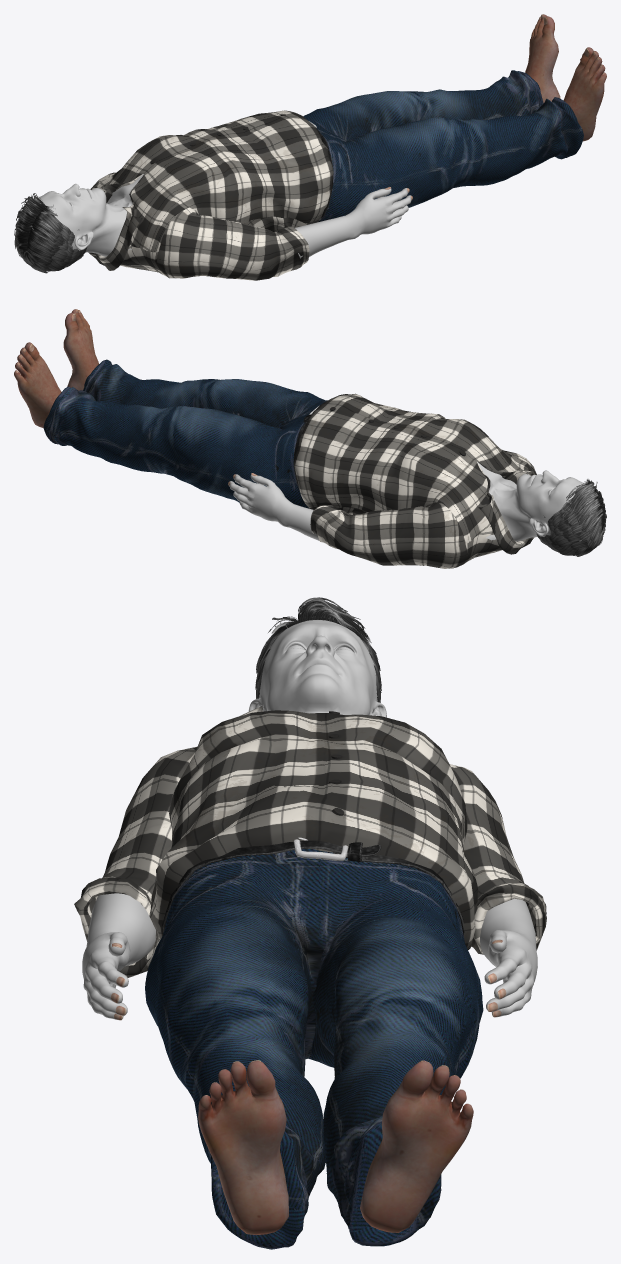
File: Ezzet_Sleeping_MRI.fbx
3 views of the same model, one above another, from view 1: azimuth 30°, elevation 25°; view 2: azimuth 150°, elevation 25°; view 3: azimuth 270°, elevation 25° (orthographic). The views are drawn at different scales.
Parts seen in each view (by area): view 1: Shirt, Jeans6, CC_Base_Body, Hair; view 2: Shirt, Jeans6, CC_Base_Body, Hair; view 3: Jeans6, Shirt, CC_Base_Body, Hair.
Part boxes in pixels (bbox=[...]): Shirt: bbox=[88, 110, 333, 280]; Jeans6: bbox=[303, 70, 583, 221]; CC_Base_Body: bbox=[26, 14, 606, 258]; Hair: bbox=[14, 193, 87, 273]; Shirt: bbox=[294, 393, 536, 568]; Jeans6: bbox=[43, 359, 327, 508]; CC_Base_Body: bbox=[14, 309, 584, 542]; Hair: bbox=[536, 479, 606, 556]; Jeans6: bbox=[145, 837, 483, 1249]; Shirt: bbox=[74, 706, 546, 977]; CC_Base_Body: bbox=[82, 620, 537, 1234]; Hair: bbox=[255, 597, 381, 702].
Bounding box in the file's own units: 180 × 38.34 × 66.76.
